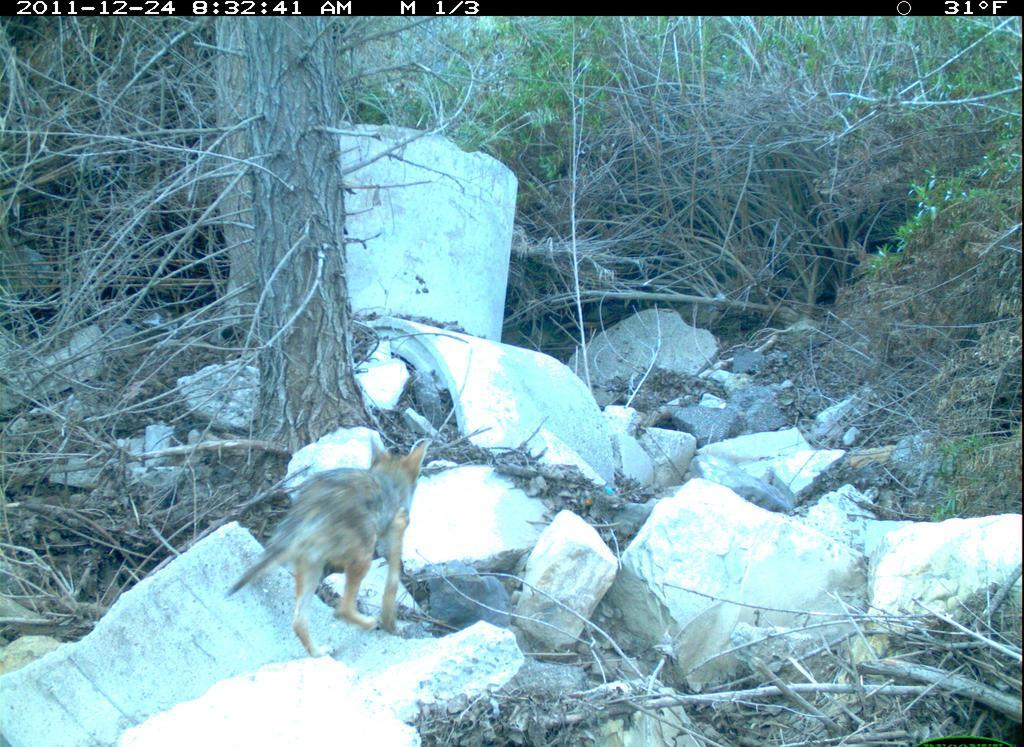coyote: (212, 420, 440, 675)
